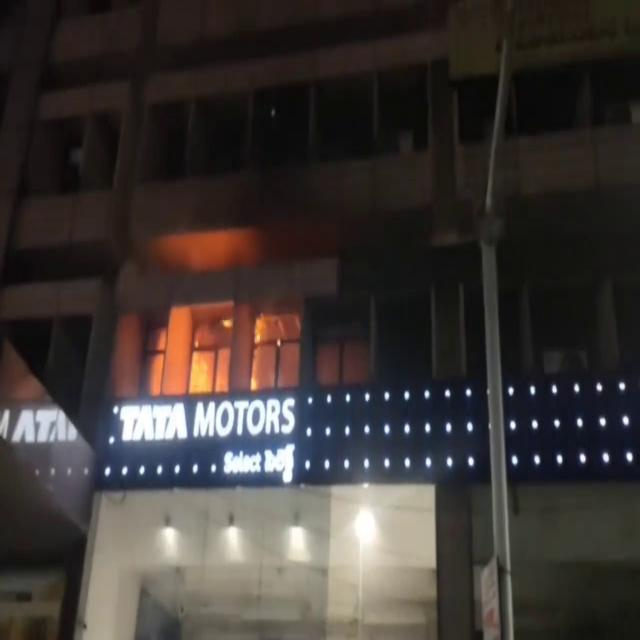Fire: (188, 351, 230, 396)
